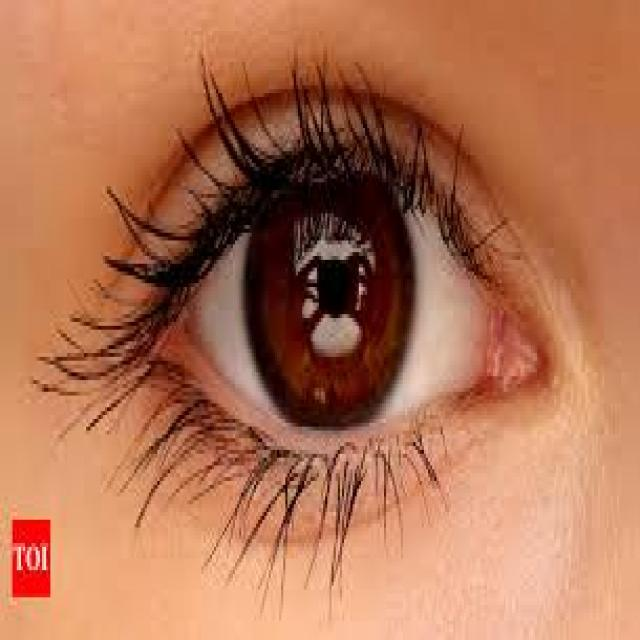Eyes-iris: (238, 151, 424, 434)
